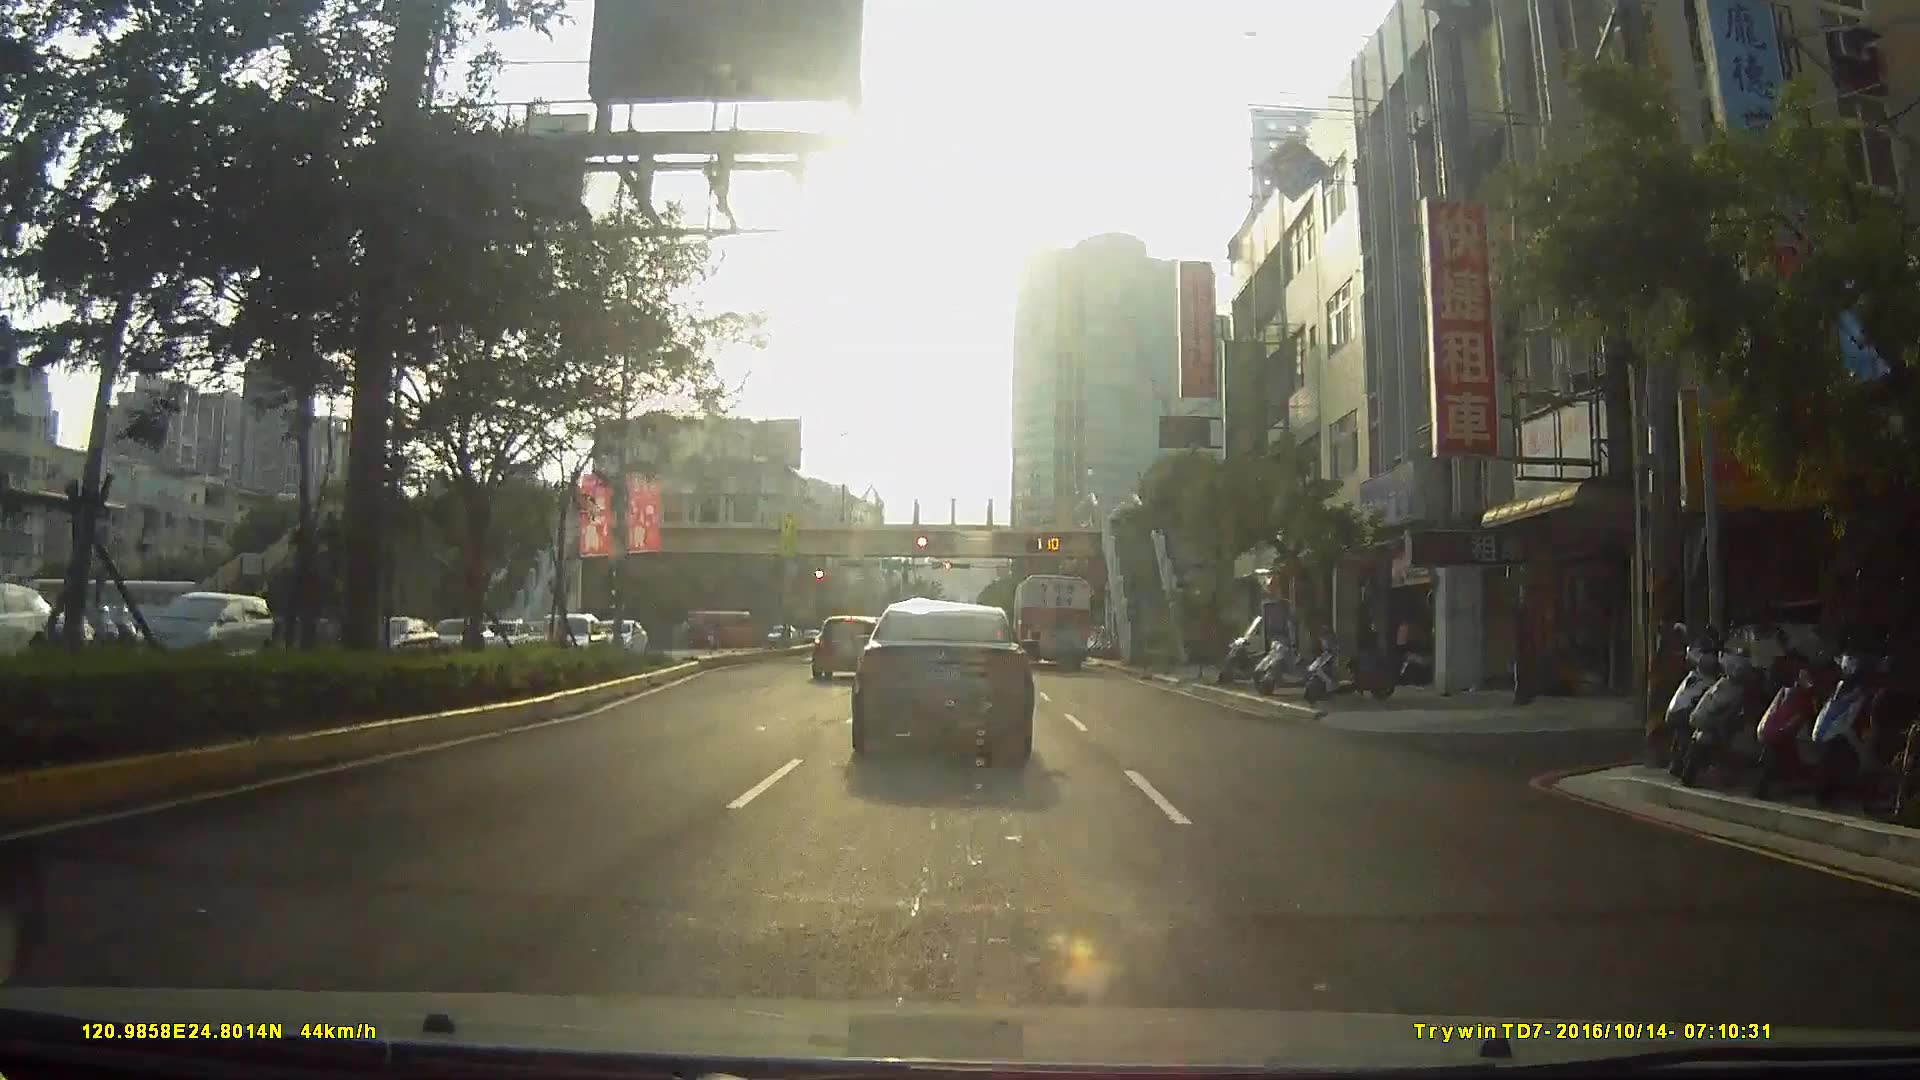vehicle: (848, 597, 1034, 757), (135, 589, 268, 665), (1009, 564, 1093, 665), (808, 611, 880, 680), (762, 618, 798, 644)
